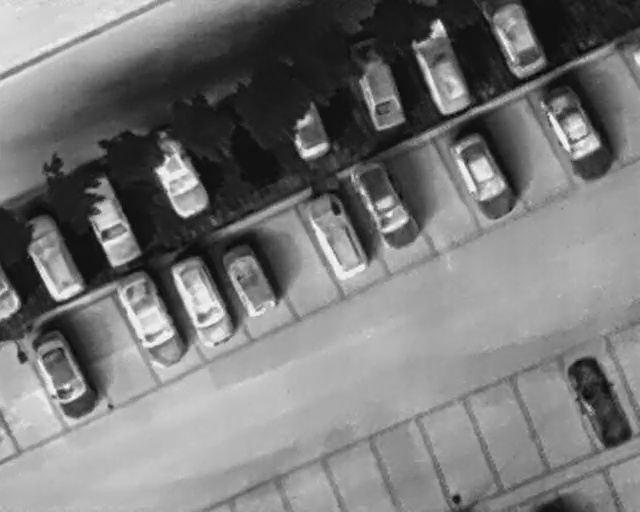Car: (110, 267, 192, 374), (536, 79, 617, 184), (22, 324, 103, 426), (349, 151, 424, 256), (299, 183, 377, 283), (443, 125, 521, 225), (563, 349, 636, 454), (14, 209, 90, 306), (404, 17, 476, 119), (169, 250, 240, 351), (72, 168, 143, 269), (344, 35, 413, 134), (140, 130, 212, 224), (216, 239, 282, 322), (486, 0, 550, 81), (276, 93, 335, 165)
